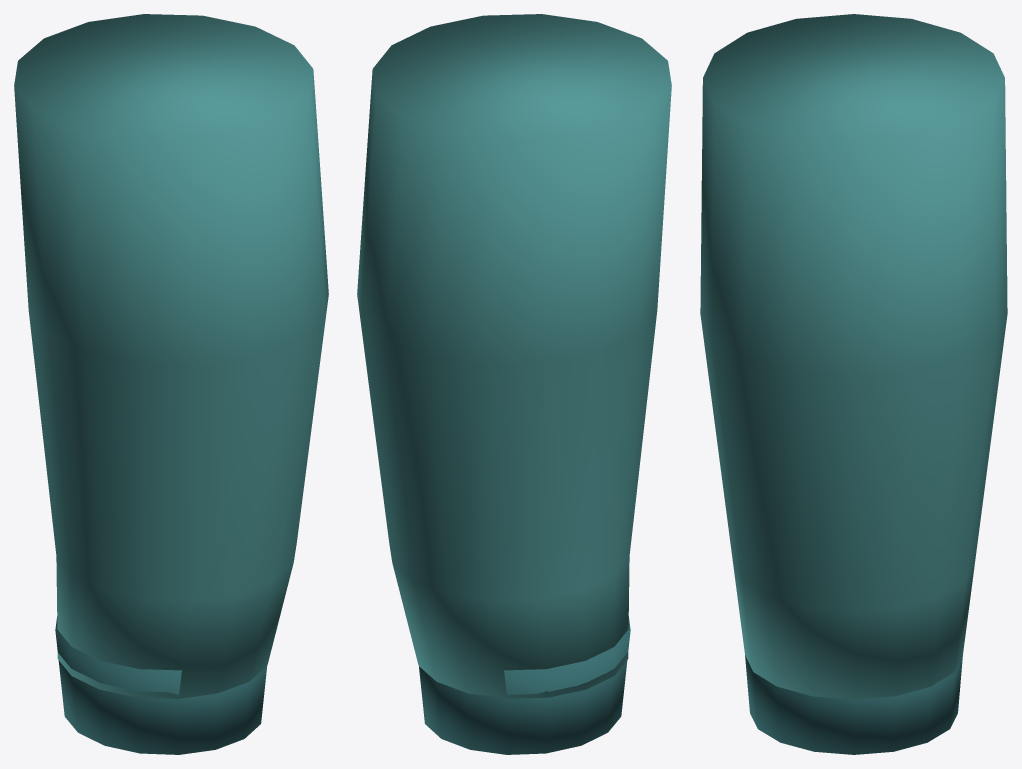
File: SM_Hider_Forearm.glb
3 views of the same model, side by side, from view 1: azimuth 30°, elevation 25°; view 2: azimuth 150°, elevation 25°; view 3: azimuth 270°, elevation 25° (orthographic).
Visible parts, largest first — view 1: SM_Hider_Forearm; view 2: SM_Hider_Forearm; view 3: SM_Hider_Forearm.
Boxes of the visible parts, x1=… form: SM_Hider_Forearm: x1=14, y1=14, x2=328, y2=754; SM_Hider_Forearm: x1=357, y1=14, x2=671, y2=754; SM_Hider_Forearm: x1=700, y1=14, x2=1007, y2=754.
Size of the model in its own units: 0.129 by 0.283 by 0.124.
